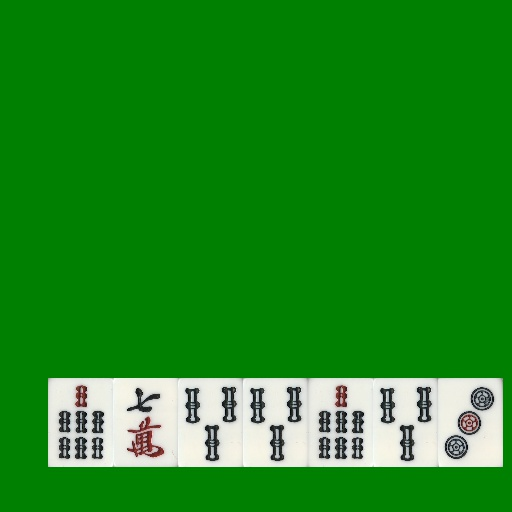3p: (438, 378, 503, 467)
3s: (178, 378, 243, 467), (243, 378, 308, 467), (373, 378, 438, 467)
7m: (113, 378, 178, 467)
7s: (48, 378, 113, 467), (308, 378, 373, 467)
